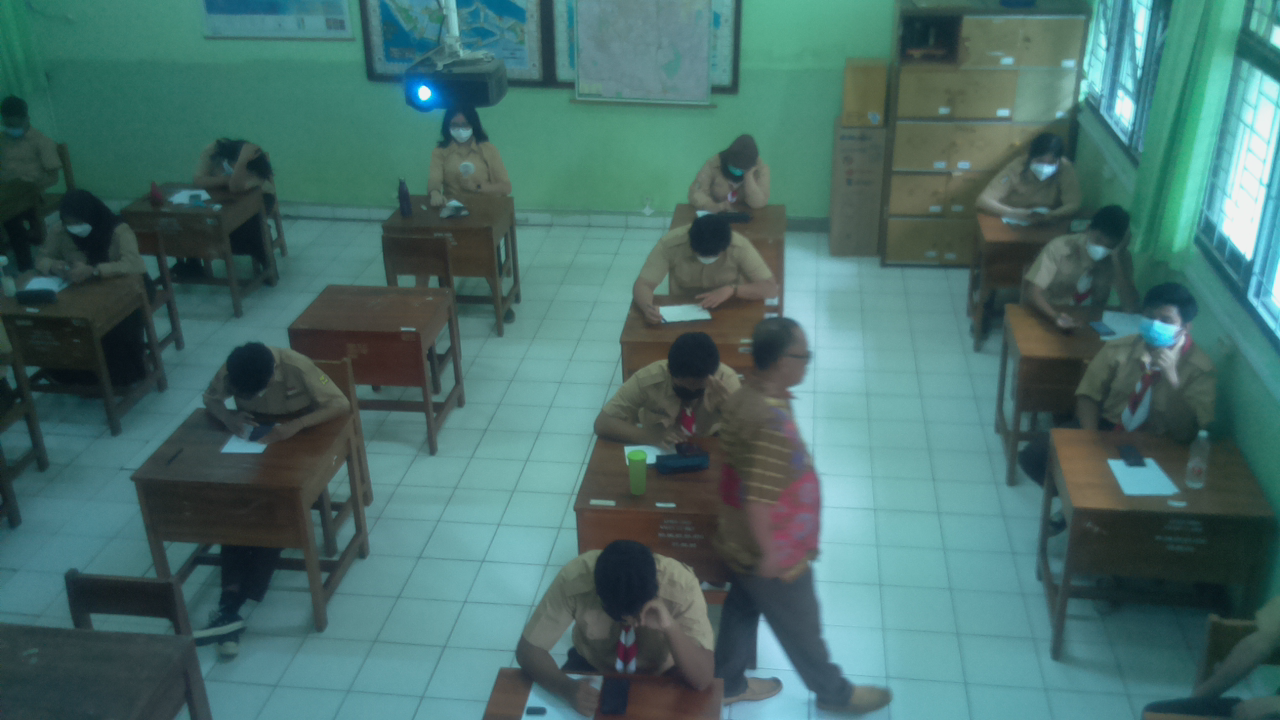Student: (725, 313, 827, 574), (555, 537, 701, 673), (1101, 287, 1209, 427), (619, 335, 739, 438), (207, 341, 343, 418), (1035, 199, 1129, 306), (657, 207, 758, 301), (47, 187, 136, 274), (429, 95, 504, 193), (989, 139, 1075, 212), (0, 91, 64, 184), (691, 131, 765, 210), (203, 133, 270, 188)
